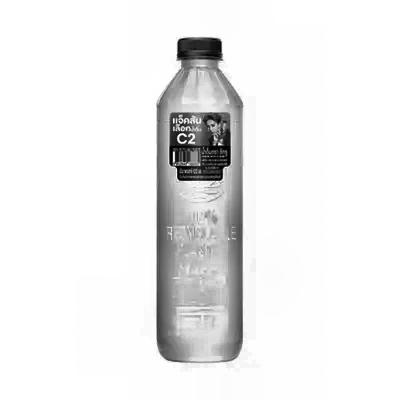waterbottle: (118, 23, 313, 382)
